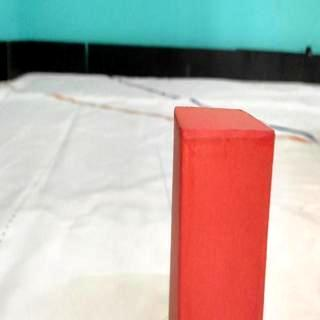redbox: (167, 105, 275, 320)
